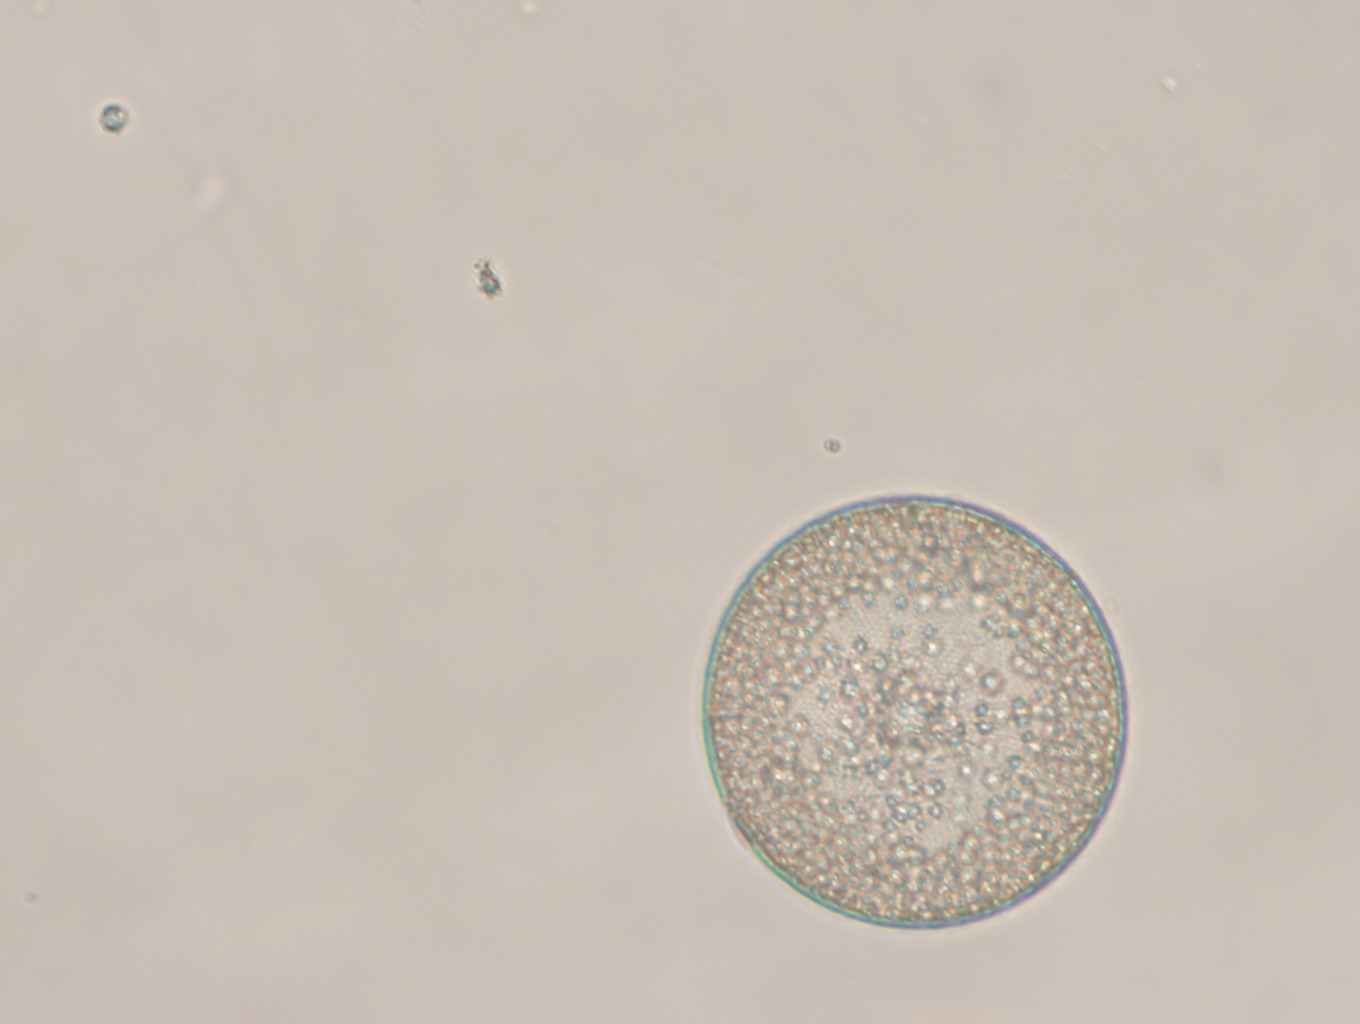coscinodiscus: (690, 485, 1140, 939)
